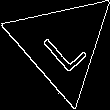L_NW: (35, 15, 89, 74)
